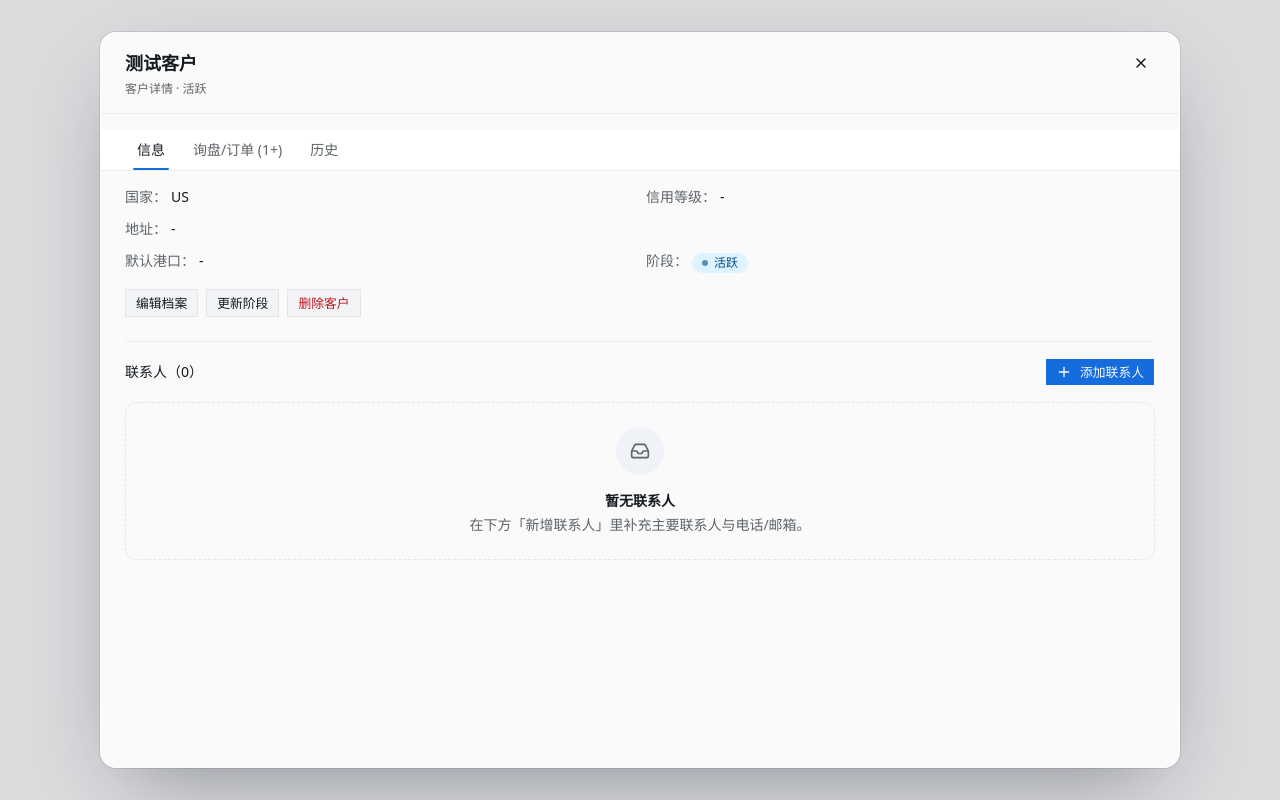
Test: 客户详情「询盘/订单」tab 计数（问题 5） › records 读不到时订单数未知：显示 N+ 而不是假 0
Click the tab "询盘/订单 (1+)" at (238, 150), box [181,130,294,170]
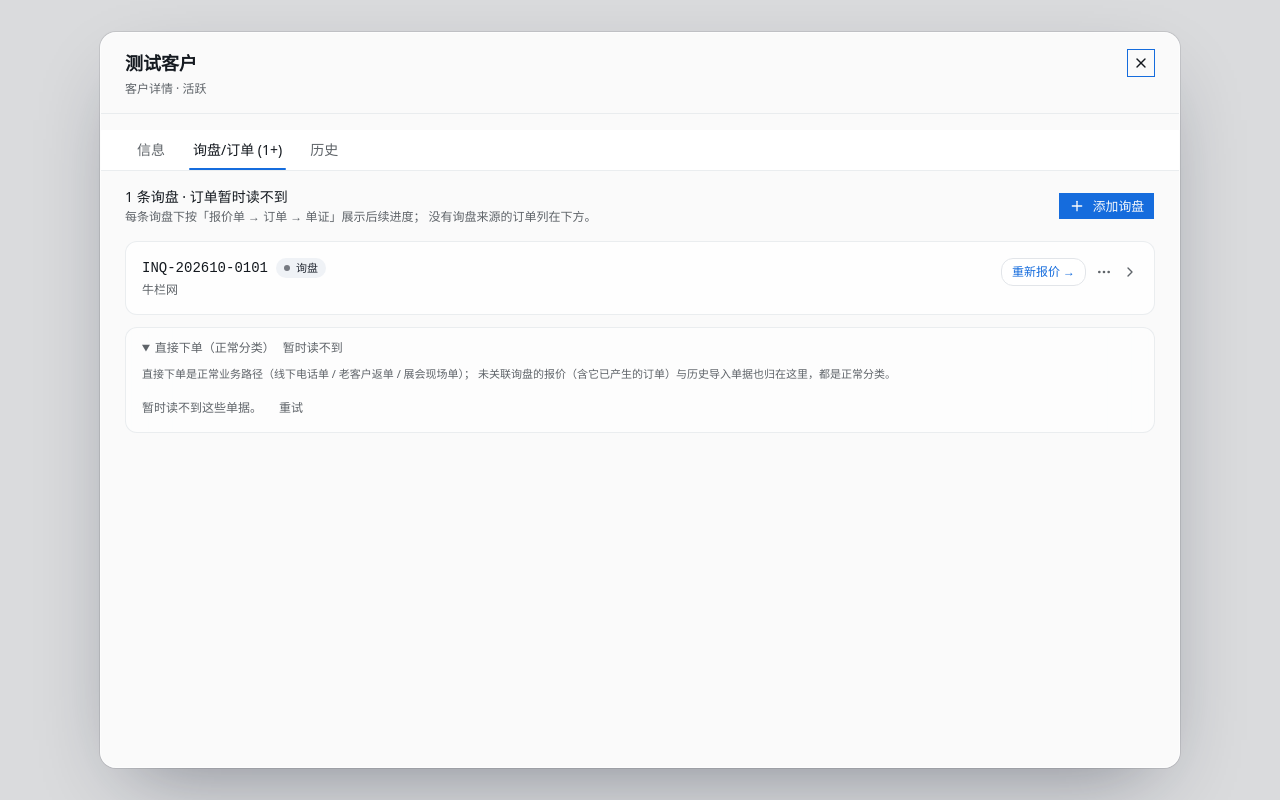
Now the text "订单暂时读不到" is shown, box [179,187,288,206]
